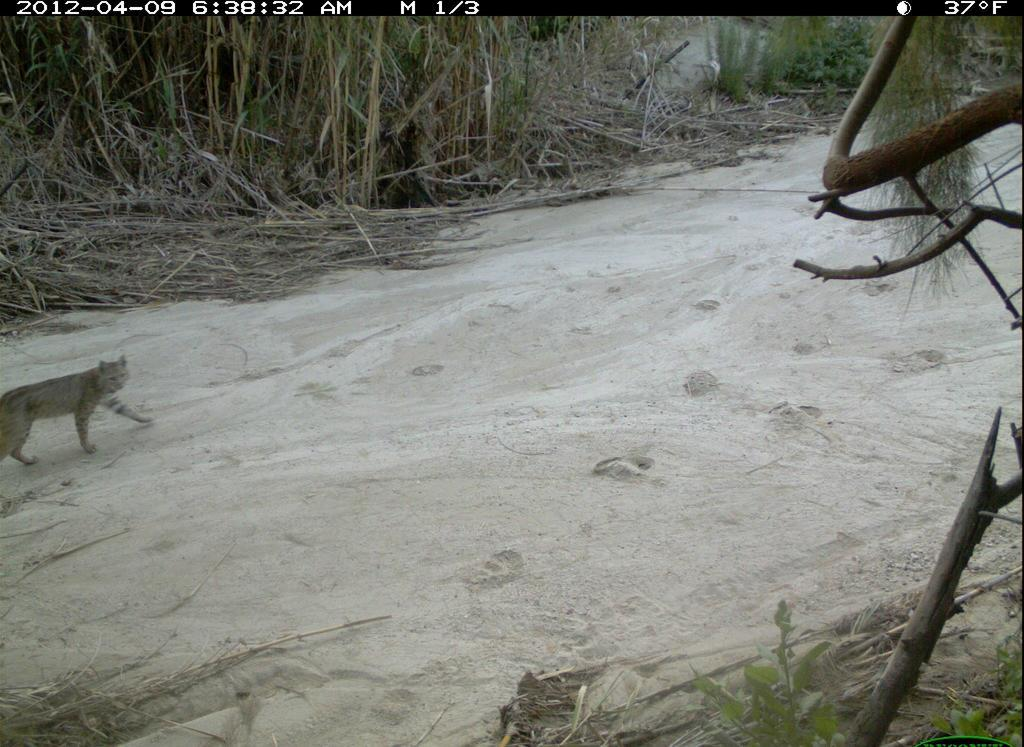bobcat: (2, 350, 155, 483)
